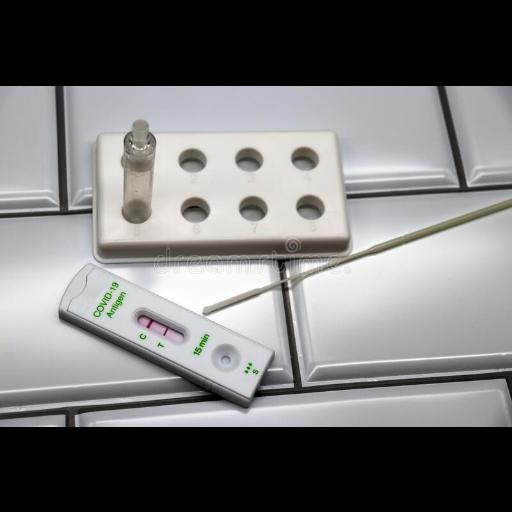Pos: (57, 258, 273, 400)
